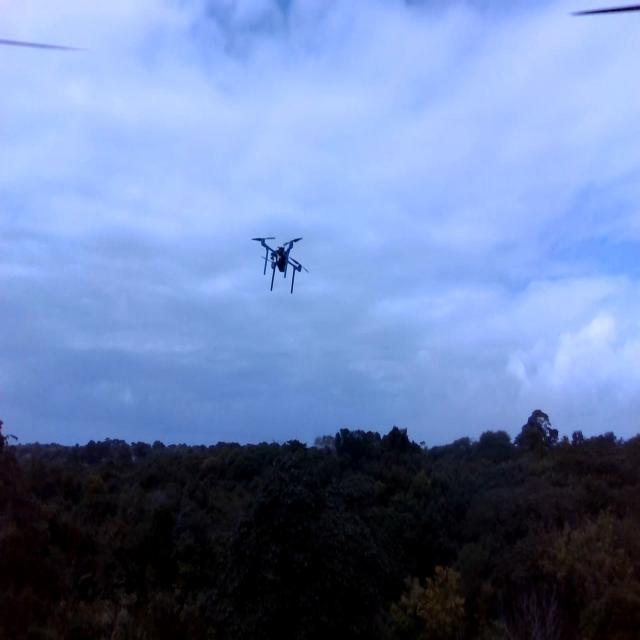-uav-: (248, 218, 314, 316)
